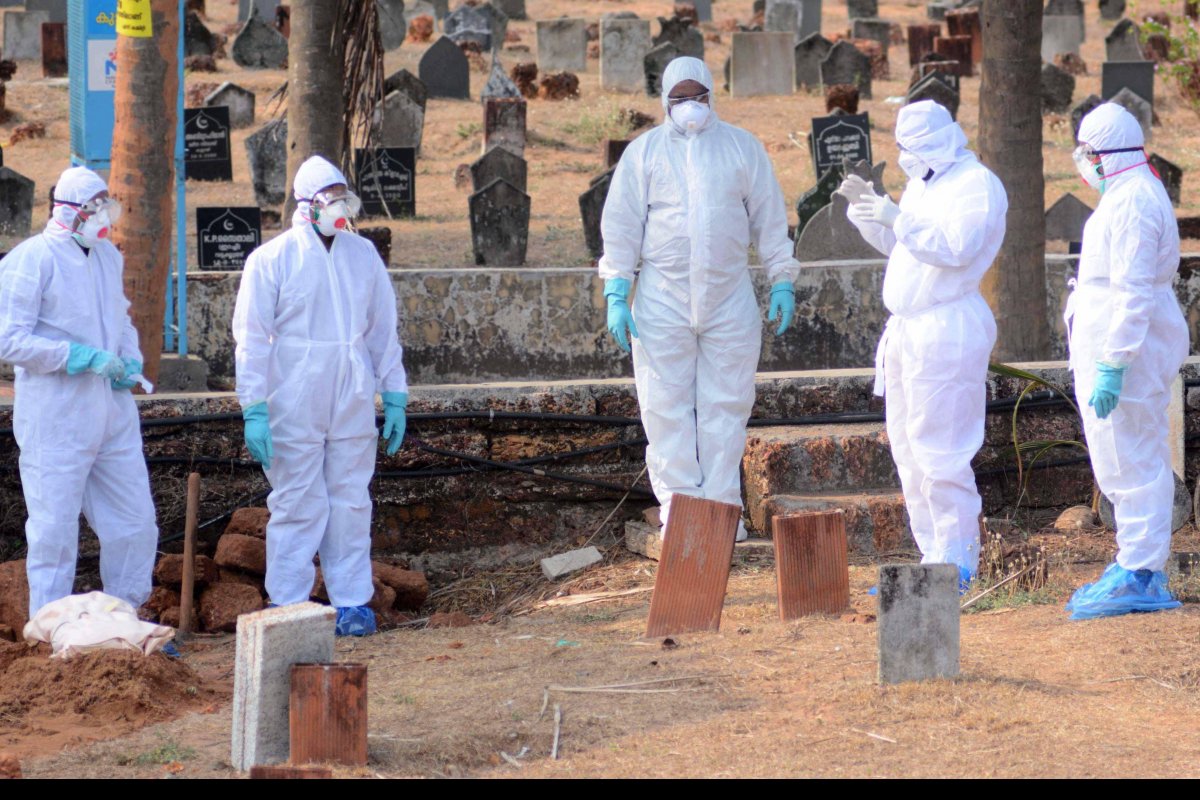Coverall: (597, 48, 793, 515), (236, 161, 406, 602), (845, 98, 1008, 553), (2, 165, 166, 596), (1058, 101, 1190, 585)
Gloves: (600, 274, 645, 351), (237, 403, 283, 468), (1087, 364, 1128, 425), (379, 394, 414, 462), (759, 277, 799, 334), (59, 344, 117, 379), (850, 197, 899, 230), (114, 354, 140, 389)
Goggles: (311, 183, 357, 211), (77, 196, 121, 218)
with_mask: (306, 191, 358, 239), (71, 208, 113, 255), (669, 89, 711, 136), (1068, 158, 1114, 189), (897, 151, 933, 182)
